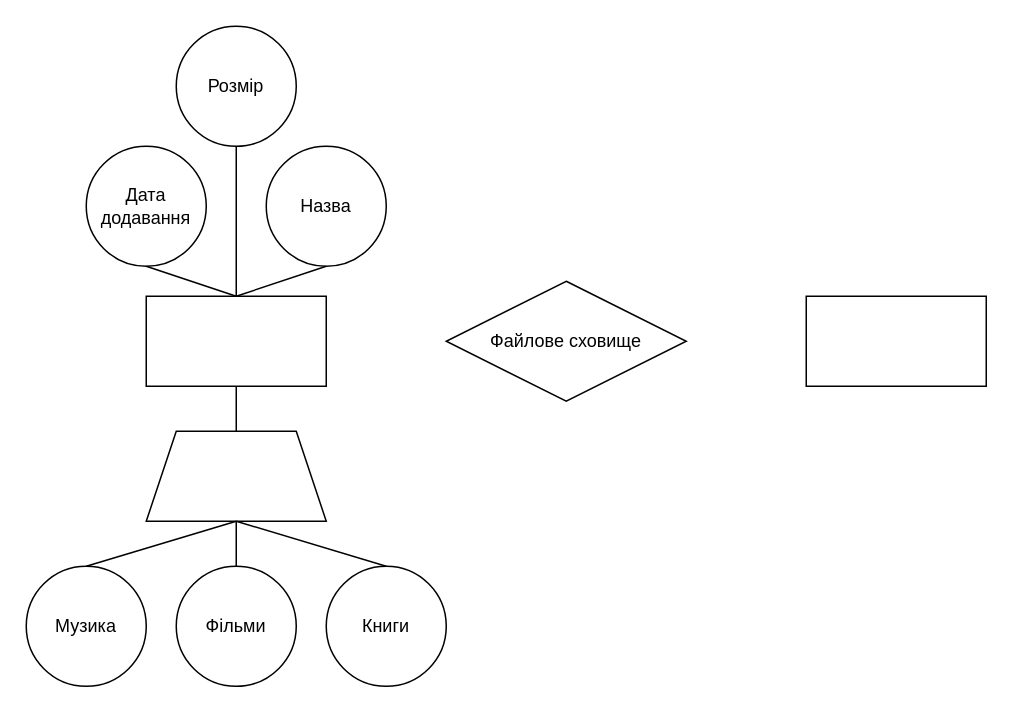
This 1013x713 diagram has some shape labels left out. The box of each missing label's shape, as (x1, y1, x2, y2) in pixels:
Користувач: (805, 295, 986, 386)
Тип файлу: (145, 430, 326, 521)
Файловий архів: (145, 295, 326, 386)
